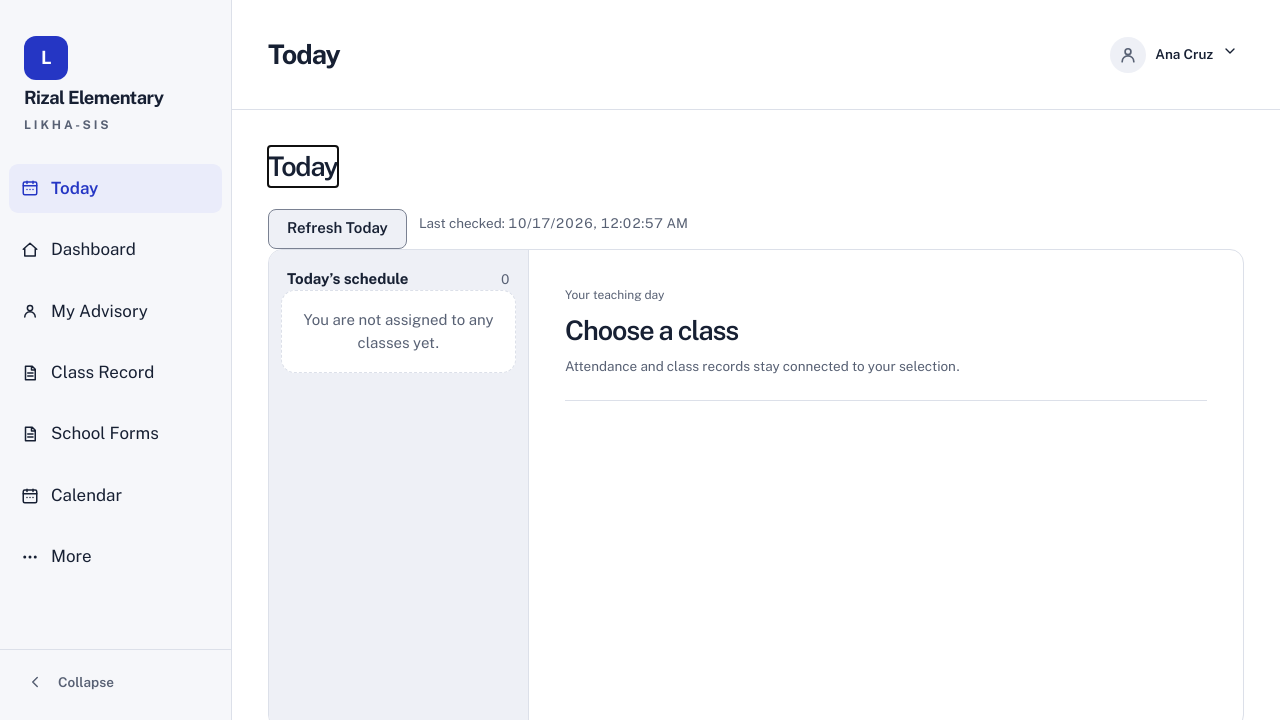
Scenario: App › isolates retained drafts after reauthentication: same account and school
The image size is (1280, 720).
Expected: the heading "Today" is shown, [268,146,338,186]
Click the button "More".
click(116, 557)  # box [9,532,222,582]
(page scrolled)
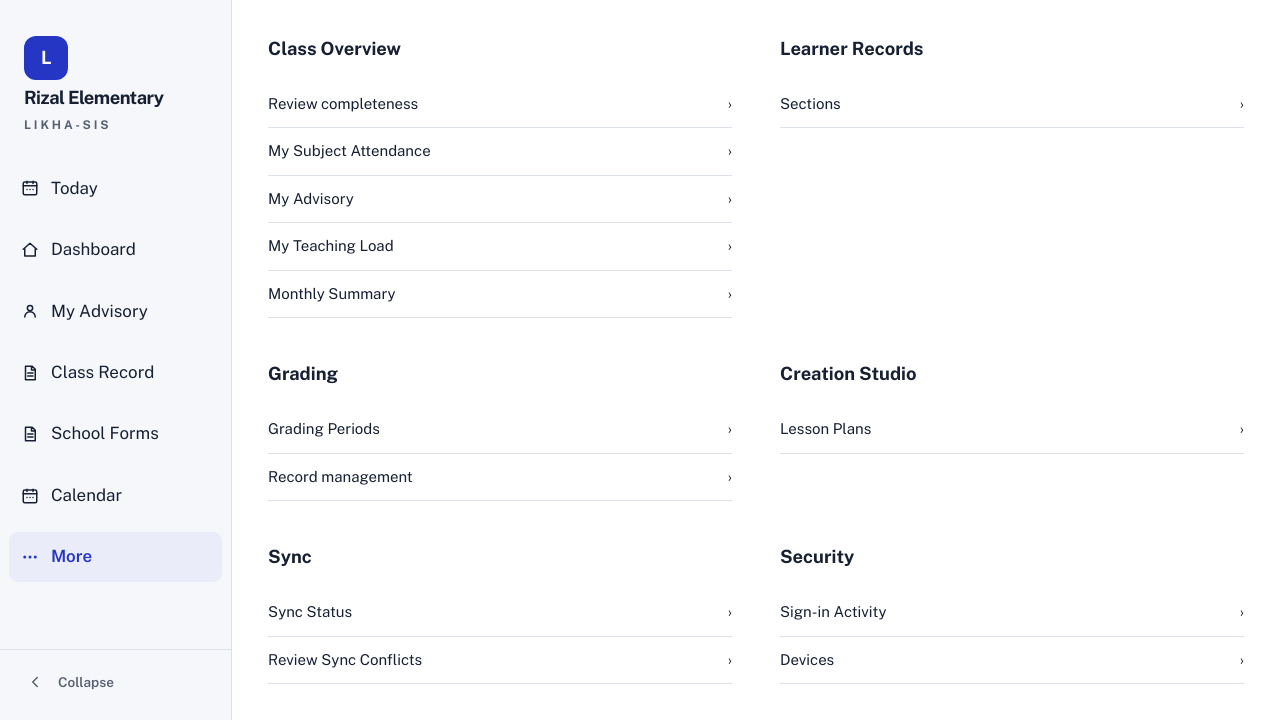
Click the button "Sign-in Activity ›".
click(833, 612)  # box [780,589,1244,637]
(page scrolled)
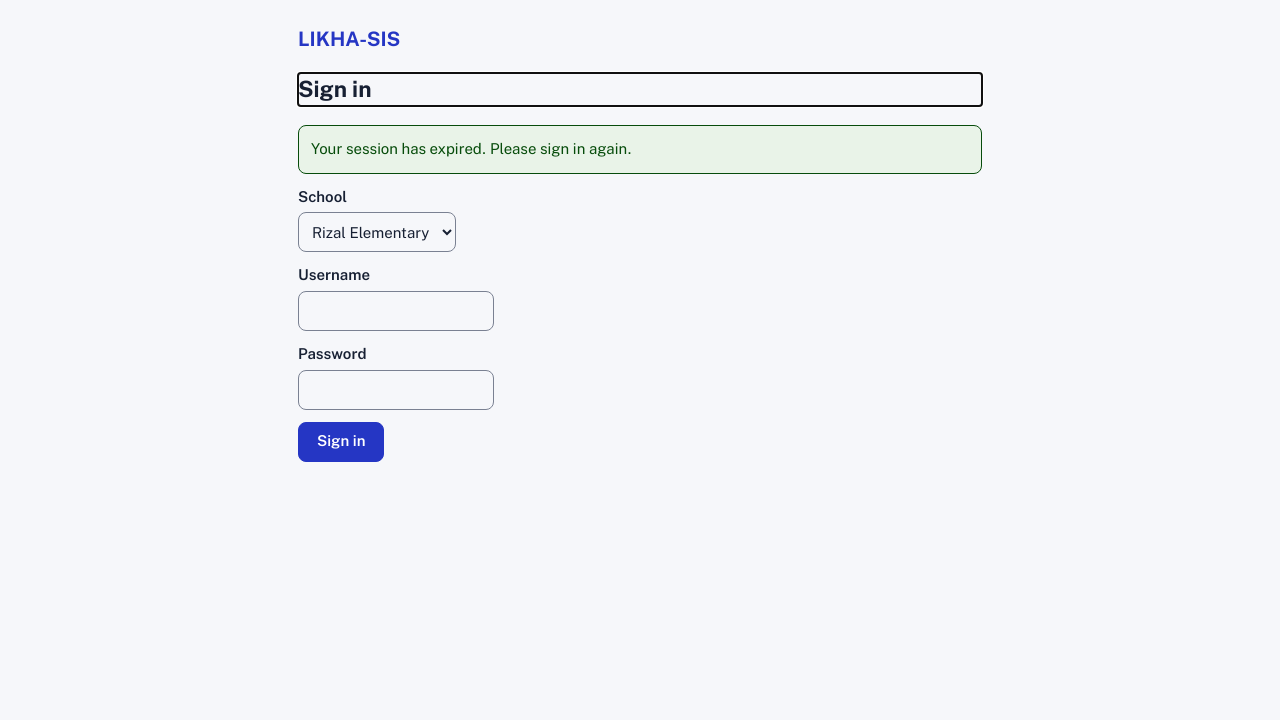
Expected: the form "Sign in" is shown, [298,73,982,462]
Type "ana.cruz" into the field labelled "Username".
click(396, 311); type("ana.cruz")  # box [298,291,494,331]
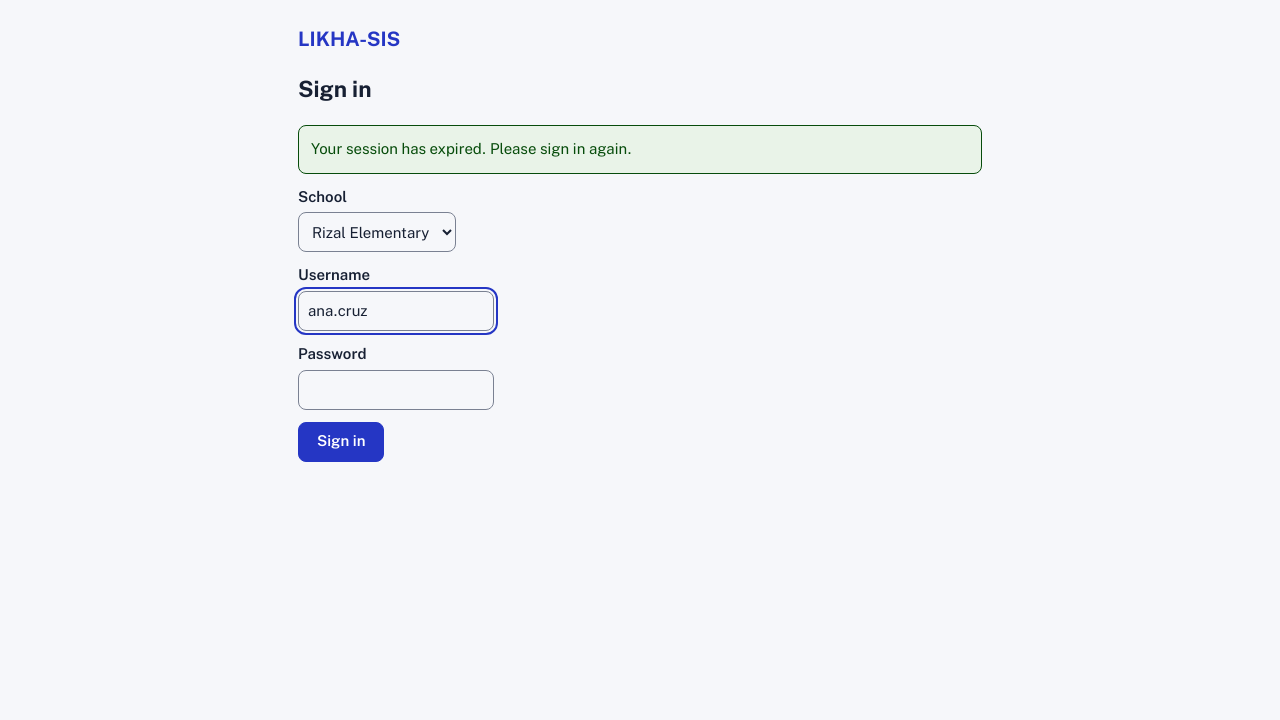
Type "synthetic-password" into the password field labelled "Password".
click(396, 390); type("synthetic-password")  # box [298,370,494,410]
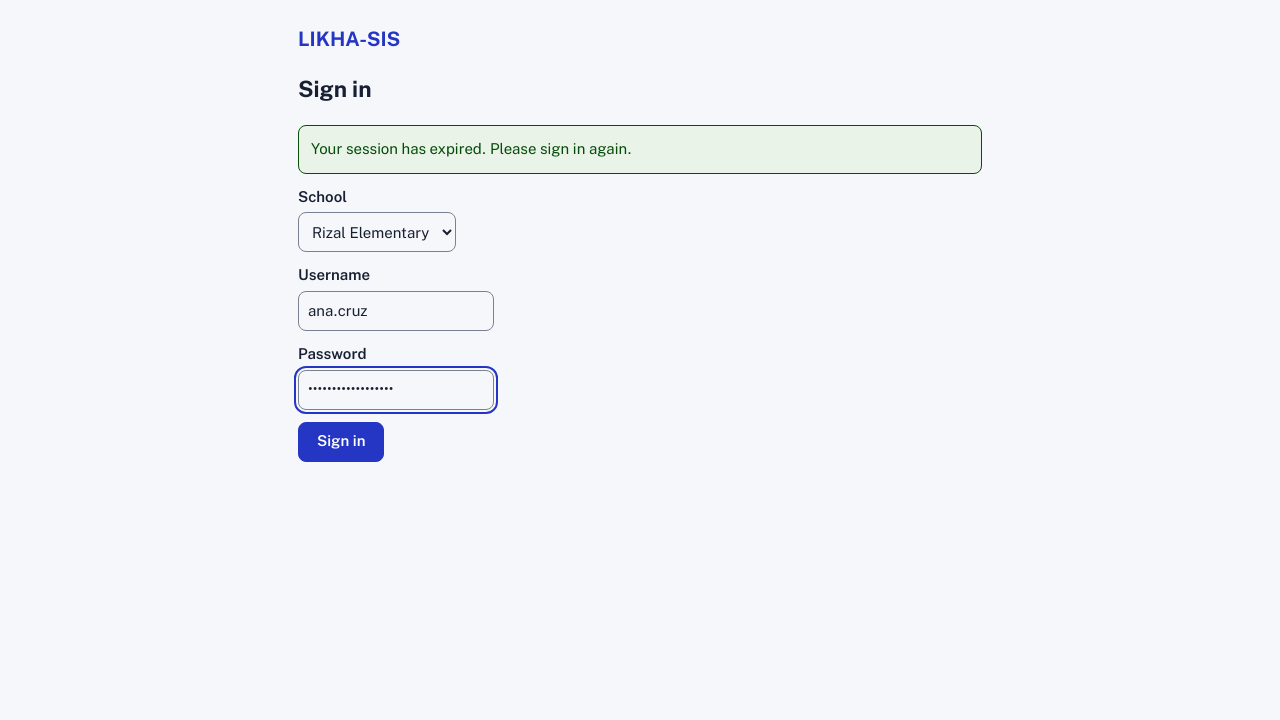
Click the button "Sign in".
click(341, 442)  # box [298,422,384,462]
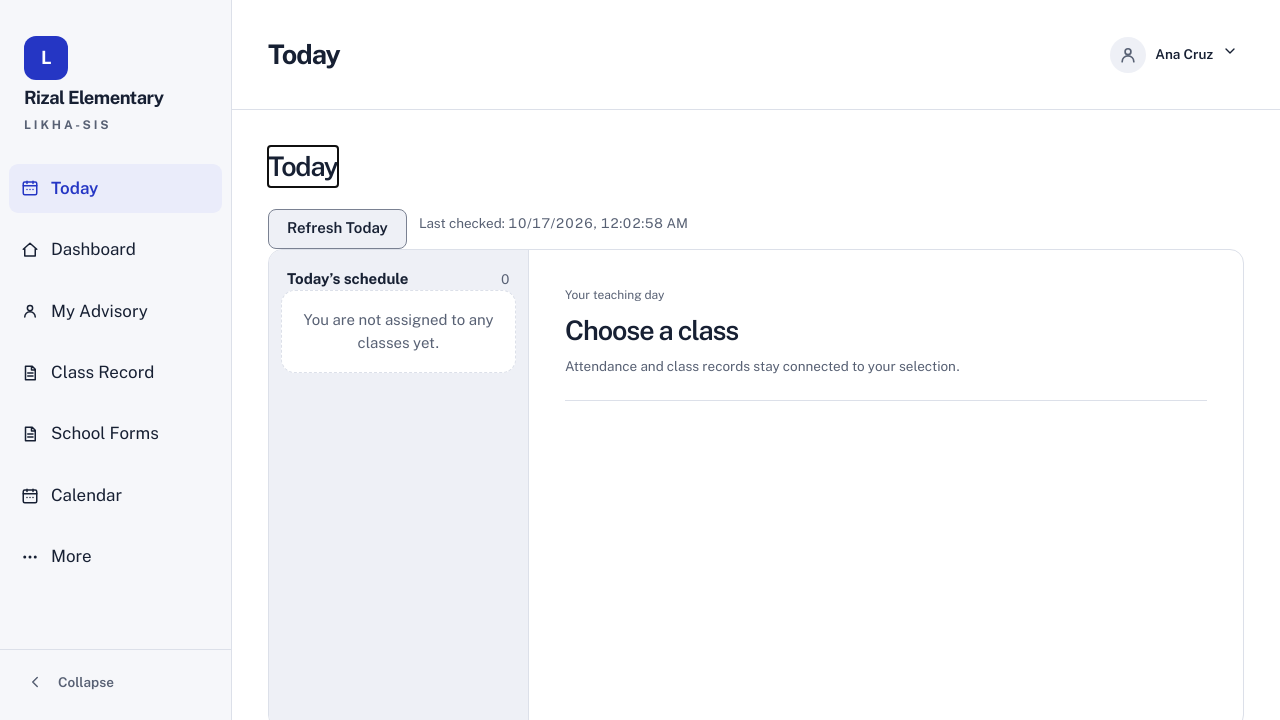
Expected: the heading "Today" is shown, [268,146,338,186]
